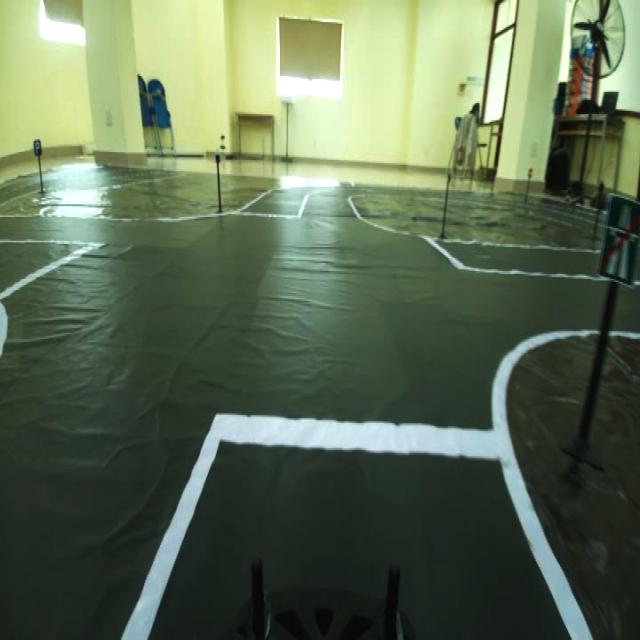highway_exit: (598, 174, 639, 288)
